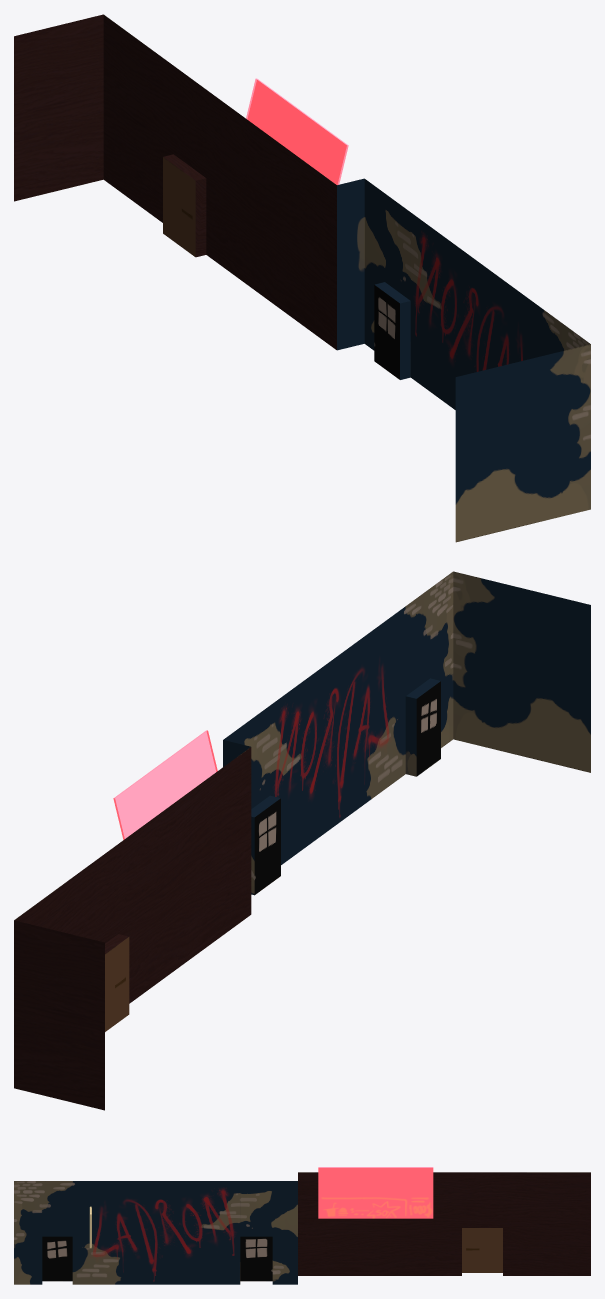
3 views of the same model, one above another, from view 1: azimuth 30°, elevation 25°; view 2: azimuth 150°, elevation 25°; view 3: azimuth 270°, elevation 25° (orthographic). The views are drawn at different scales.
Parts seen in each view (by area): view 1: buildings_tile_Db, luces_tile_Db; view 2: buildings_tile_Db, luces_tile_Db; view 3: buildings_tile_Db, luces_tile_Db.
Part boxes in pixels (left/top/right/bottom): buildings_tile_Db: left=14, top=14, right=590, bottom=542; luces_tile_Db: left=246, top=78, right=348, bottom=184; buildings_tile_Db: left=14, top=571, right=590, bottom=1110; luces_tile_Db: left=113, top=730, right=217, bottom=839; buildings_tile_Db: left=14, top=1172, right=590, bottom=1284; luces_tile_Db: left=89, top=1167, right=433, bottom=1248.
Bounding box in the file's own units: 6.11 × 6.61 × 29.5.
